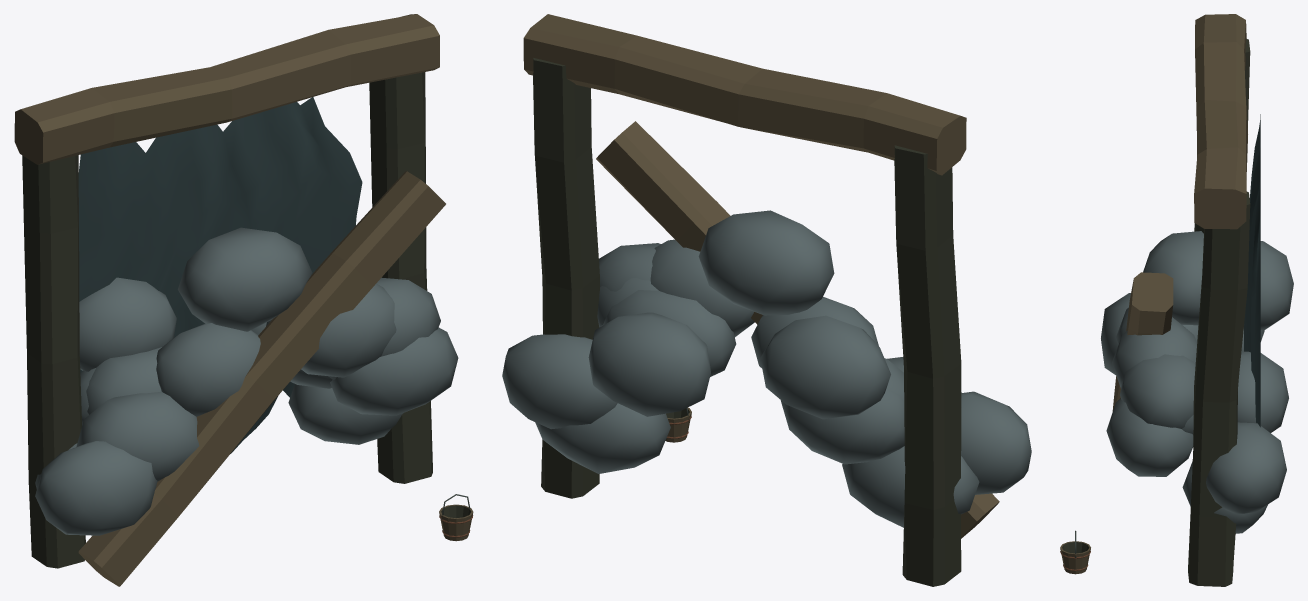
Rendered from three-knocks-fresh.glb.
3 views of the same model, side by side, from view 1: azimuth 30°, elevation 25°; view 2: azimuth 150°, elevation 25°; view 3: azimuth 270°, elevation 25° (orthographic). The views are drawn at different scales.
Visible parts, largest first — view 1: Surface; view 2: Surface; view 3: Surface.
Boxes of the visible parts, x1,y1,x2,y2 form: Surface: (14,14,473,586); Surface: (502,14,1031,586); Surface: (1060,14,1293,586).
Size of the model in its own units: 1.44 by 1.39 by 0.725.
